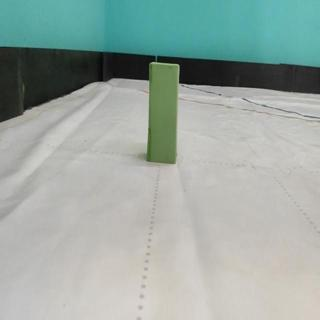greenbox: (145, 60, 180, 163)
